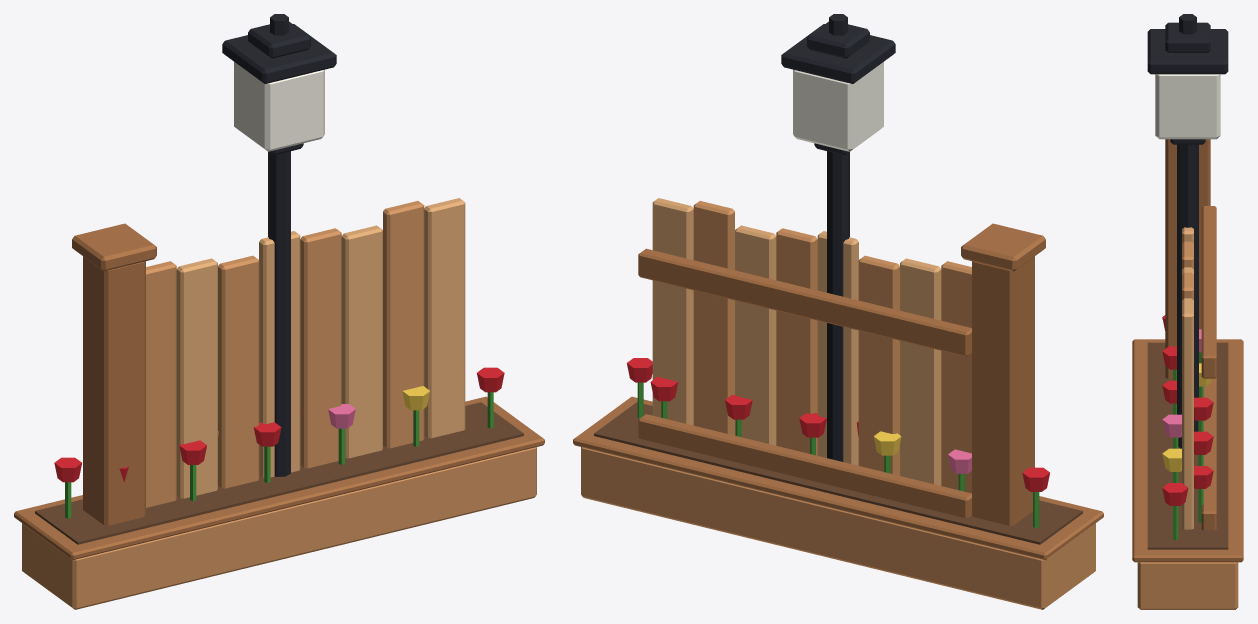
Rendered from Park.fbx.
The picture shows the model from 3 angles, left to right: view 1: azimuth 30°, elevation 25°; view 2: azimuth 150°, elevation 25°; view 3: azimuth 270°, elevation 25°; orthographic projection. The views are drawn at different scales.
Parts seen in each view (by area): view 1: Lobby_ParkFence, Lobby_Planter, Lobby_ParkLamp; view 2: Lobby_ParkFence, Lobby_Planter, Lobby_ParkLamp; view 3: Lobby_Planter, Lobby_ParkLamp, Lobby_ParkFence.
Boxes of the visible parts, box(x1,y1,x2,y2) form: Lobby_ParkFence: box(72, 198, 465, 525); Lobby_Planter: box(14, 367, 544, 609); Lobby_ParkLamp: box(222, 14, 336, 476); Lobby_ParkFence: box(638, 198, 1045, 525); Lobby_Planter: box(573, 358, 1103, 609); Lobby_ParkLamp: box(781, 14, 895, 461); Lobby_Planter: box(1132, 315, 1243, 609); Lobby_ParkLamp: box(1147, 14, 1228, 448); Lobby_ParkFence: box(1165, 139, 1216, 530).
Size of the model in its own units: 10.2 by 10.65 by 2.2.
1 material, 1 textured.
